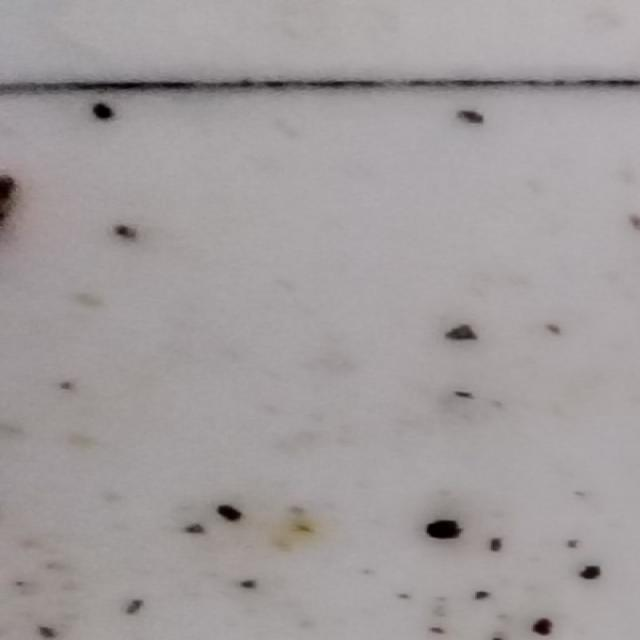varroa: (427, 518, 467, 543), (90, 99, 119, 118)
